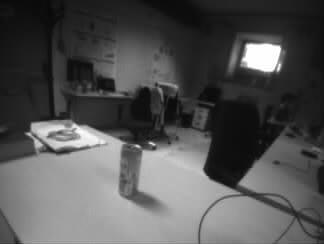Tin can: (120, 144, 140, 195)
